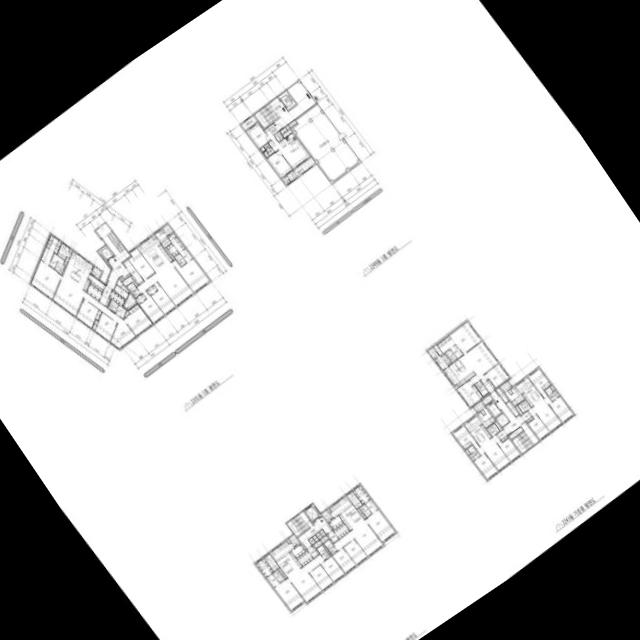background: (0, 0, 640, 640)
space_balconi: (287, 157, 316, 181), (241, 115, 258, 130), (162, 224, 174, 236), (92, 266, 102, 279)
space_bedroom: (172, 258, 211, 292), (31, 259, 62, 299), (449, 322, 481, 354), (274, 578, 305, 611), (365, 509, 396, 542), (124, 303, 153, 336), (128, 247, 155, 280), (140, 290, 165, 323), (151, 282, 176, 314), (92, 312, 118, 342), (77, 299, 102, 328), (457, 379, 483, 406), (268, 150, 293, 177), (453, 425, 480, 449), (529, 369, 551, 398), (247, 122, 271, 148), (549, 396, 573, 422), (344, 539, 368, 565), (310, 565, 334, 591), (321, 556, 345, 582), (333, 547, 357, 573), (474, 453, 498, 479), (484, 363, 509, 387), (528, 414, 550, 439), (498, 438, 521, 461), (136, 293, 146, 304), (147, 285, 158, 295)
space_dressroom: (255, 558, 274, 577), (353, 484, 371, 504), (168, 233, 185, 252), (437, 336, 456, 353), (46, 234, 62, 254), (167, 243, 179, 256)
space_elevator: (278, 91, 296, 110), (304, 504, 322, 522), (98, 245, 114, 262), (486, 400, 502, 417)
space_elevator_hall: (96, 223, 130, 289), (270, 82, 316, 130), (490, 390, 529, 435), (298, 517, 332, 549)
space_front: (123, 259, 144, 284), (333, 523, 350, 539), (110, 290, 126, 306), (297, 550, 313, 566), (100, 285, 112, 306), (87, 284, 102, 300), (327, 531, 339, 543), (522, 411, 534, 423), (484, 379, 495, 392), (308, 545, 319, 558), (265, 124, 279, 134), (497, 430, 508, 442)
space_kitchen: (137, 236, 173, 273), (63, 250, 94, 291), (330, 495, 365, 530), (270, 540, 302, 578), (465, 408, 496, 446), (505, 377, 544, 407), (444, 356, 476, 387), (280, 133, 302, 152), (292, 544, 306, 558), (329, 516, 344, 529)
space_living_room: (53, 276, 136, 349), (137, 262, 194, 306), (334, 520, 384, 556), (289, 554, 325, 603), (266, 129, 310, 169), (463, 341, 498, 384), (529, 396, 562, 431), (477, 435, 510, 470)
space_other: (292, 104, 359, 181), (89, 274, 106, 292), (347, 490, 363, 509), (155, 228, 171, 247), (264, 553, 280, 571), (436, 353, 452, 370), (58, 242, 71, 260), (114, 285, 129, 299), (496, 387, 509, 403), (506, 401, 519, 417), (496, 413, 510, 427), (261, 143, 275, 157), (117, 278, 129, 293), (509, 427, 523, 439), (125, 293, 136, 308), (123, 276, 137, 286), (165, 247, 175, 259), (482, 395, 493, 405), (275, 131, 284, 141), (434, 345, 443, 355), (282, 176, 291, 185), (279, 568, 287, 578), (358, 508, 366, 518), (515, 405, 523, 415), (495, 421, 503, 430), (283, 129, 292, 137), (321, 535, 329, 543), (314, 541, 322, 548), (289, 120, 297, 127), (316, 532, 323, 539), (124, 310, 130, 317), (309, 537, 315, 544), (320, 529, 326, 536), (64, 257, 69, 265), (313, 535, 319, 541), (281, 127, 287, 133), (107, 262, 112, 269), (550, 385, 555, 391), (152, 234, 157, 239), (466, 449, 471, 454), (69, 248, 73, 253), (482, 411, 486, 415), (509, 390, 513, 394), (328, 508, 332, 512), (286, 125, 290, 129), (120, 276, 124, 280), (455, 385, 459, 388)
space_outdoor_room: (500, 381, 512, 393), (474, 401, 486, 413), (322, 509, 333, 522), (428, 346, 439, 359), (289, 534, 300, 546)
space_staircase: (513, 427, 539, 453), (287, 511, 313, 536), (255, 103, 280, 128), (107, 231, 125, 253)
space_toilet: (50, 253, 65, 274), (445, 345, 463, 362), (41, 246, 54, 265), (127, 282, 141, 298), (324, 539, 338, 555), (317, 544, 331, 560), (475, 380, 489, 396), (545, 387, 560, 401), (468, 445, 481, 460), (518, 399, 531, 413), (365, 499, 378, 513), (267, 573, 280, 587), (180, 248, 193, 262), (487, 423, 500, 436), (116, 305, 127, 318), (110, 299, 119, 308), (273, 569, 282, 578), (108, 303, 117, 312), (178, 258, 187, 266), (363, 509, 372, 517), (276, 574, 285, 582), (174, 253, 183, 261), (360, 504, 368, 512)
